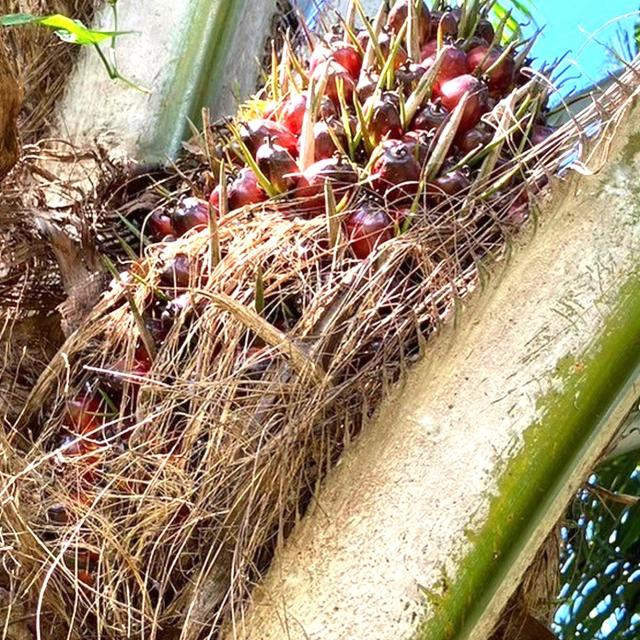ripe: (39, 1, 579, 614)
